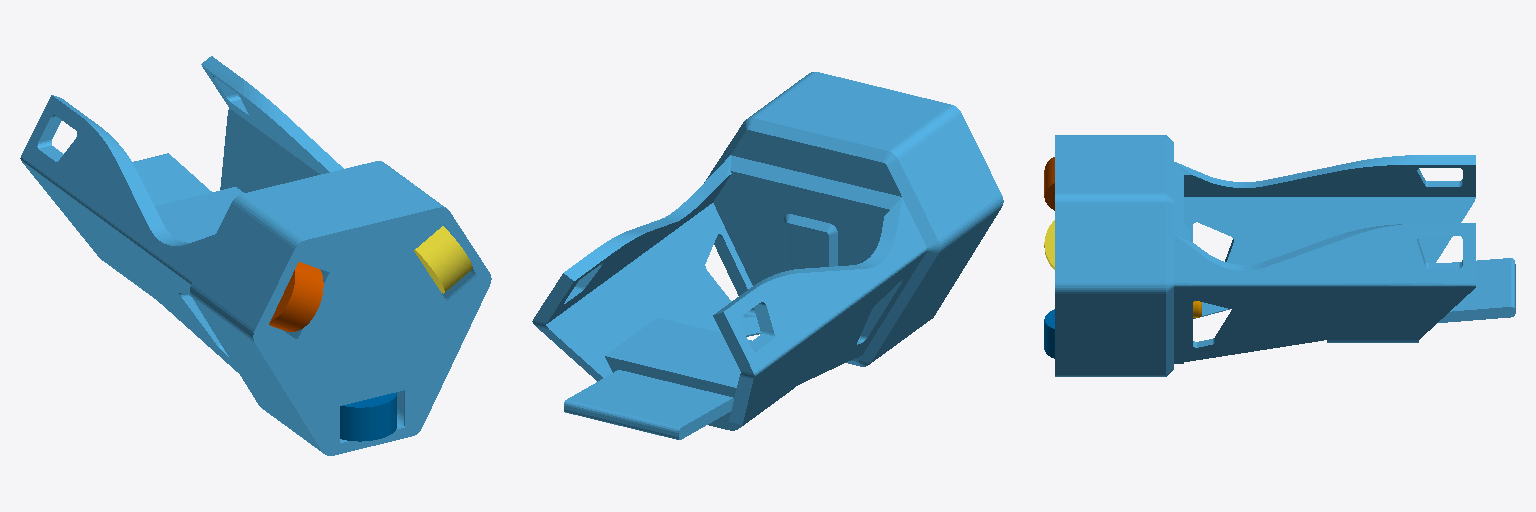
The robot description file, URDF, robot "CAD_ASR_WITH_OMNI":
<?xml version='1.0' encoding='utf-8'?>
<robot name="CAD_ASR_WITH_OMNI">
    <link name="laser">
        <inertial>
            <origin xyz="-3.1726632698791948e-09 -0.014527095824777393 2.045707248043982e-09" rpy="0.0 -0.0 0.0" />
            <mass value="1.0030784084841826" />
            <inertia ixx="0.0004140062601387662" iyy="0.0006847234020838644" izz="0.0004140062601389882" ixy="1.7347234759768086e-18" iyz="8.673617379884032e-19" ixz="2.7754319098077793e-17" />
        </inertial>
        <visual name="laser_visual">
            <origin xyz="0.14649999682733625 0.3329999988383748 2.0457006399965395e-09" rpy="3.141592653589791 -1.5707963267948515 0" />
            <geometry>
                <mesh filename="package://CAD_ASR_WITH_OMNI_LENGKAP/meshes/laser.stl" scale="0.001 0.001 0.001" />
            </geometry>
        </visual>
        <collision name="laser_collision">
            <origin xyz="0.14649999682733625 0.3329999988383748 2.0457006399965395e-09" rpy="3.141592653589791 -1.5707963267948515 0" />
            <geometry>
                <mesh filename="package://CAD_ASR_WITH_OMNI_LENGKAP/meshes/laser.stl" scale="0.001 0.001 0.001" />
            </geometry>
        </collision>
    </link>
    <link name="base_link">
        <inertial>
            <origin xyz="8.093031357751758e-06 0.5234979845352189 -0.053613979906772496" rpy="0.0 0.0 0.0" />
            <mass value="283.33820211690704" />
            <inertia ixx="29.641982413848485" iyy="10.427198784058046" izz="33.33005849408689" ixy="-0.006111458056046465" iyz="1.9269172799311245" ixz="-0.00118259433159655" />
        </inertial>
        <visual name="base_link_visual">
            <origin xyz="0.0 0.0 0.0" rpy="0.0 0.0 0.0" />
            <geometry>
                <mesh filename="package://CAD_ASR_WITH_OMNI_LENGKAP/meshes/base_link.stl" scale="0.001 0.001 0.001" />
            </geometry>
        </visual>
        <collision name="base_link_collision">
            <origin xyz="0.0 0.0 0.0" rpy="0.0 0.0 0.0" />
            <geometry>
                <mesh filename="package://CAD_ASR_WITH_OMNI_LENGKAP/meshes/base_link.stl" scale="0.001 0.001 0.001" />
            </geometry>
        </collision>
    </link>
    <link name="camera_link">
        <inertial>
            <origin xyz="-0.014999998838375462 2.735289683641895e-10 -0.010434518692237446" rpy="0.0 -0.0 0.0" />
            <mass value="0.7981209506100744" />
            <inertia ixx="0.0017574405415030636" iyy="8.717941511329763e-05" izz="0.001784777233331647" ixy="-1.5265566588595902e-16" iyz="1.1102230246251565e-16" ixz="-1.5959455978986625e-15" />
        </inertial>
        <visual name="camera_link_visual">
            <origin xyz="-0.6989999988383742 -1.9152045700820965e-05 0.17144619682733858" rpy="-6.714907318195558e-15 -4.52415882534751e-14 -1.570796326794896" />
            <geometry>
                <mesh filename="package://CAD_ASR_WITH_OMNI_LENGKAP/meshes/camera_link.stl" scale="0.001 0.001 0.001" />
            </geometry>
        </visual>
        <collision name="camera_link_collision">
            <origin xyz="-0.6989999988383742 -1.9152045700820965e-05 0.17144619682733858" rpy="-6.714907318195558e-15 -4.52415882534751e-14 -1.570796326794896" />
            <geometry>
                <mesh filename="package://CAD_ASR_WITH_OMNI_LENGKAP/meshes/camera_link.stl" scale="0.001 0.001 0.001" />
            </geometry>
        </collision>
    </link>
    <link name="wheel_front">
        <inertial>
            <origin xyz="0.010121161138996691 0.03457099537991617 -0.01738990189000152" rpy="2.465190328815662e-32 -0.0 -4.930380657631324e-32" />
            <mass value="12.318420414174582" />
            <inertia ixx="0.02763254166321557" iyy="0.036934854314119914" izz="0.02933489630804747" ixy="0.002978695109089072" iyz="-0.005117910617127469" ixz="-0.001498343056171178" />
        </inertial>
        <visual name="wheel_front_visual">
            <origin xyz="-0.5201158426687563 -0.2817960334281004 -0.8629231256072265" rpy="2.2835194947983846 -0.8434943734085423 2.283519494798289" />
            <geometry>
                <mesh filename="package://CAD_ASR_WITH_OMNI_LENGKAP/meshes/wheel_front.stl" scale="0.001 0.001 0.001" />
            </geometry>
        </visual>
        <collision name="wheel_front_collision">
            <origin xyz="-0.5201158426687563 -0.2817960334281004 -0.8629231256072265" rpy="2.2835194947983846 -0.8434943734085423 2.283519494798289" />
            <geometry>
                <mesh filename="package://CAD_ASR_WITH_OMNI_LENGKAP/meshes/wheel_front.stl" scale="0.001 0.001 0.001" />
            </geometry>
        </collision>
    </link>
    <link name="wheel_back_right">
        <inertial>
            <origin xyz="0.0399999999030117 2.0277965973036772e-10 -1.1616256045954287e-09" rpy="0.0 -0.0 0.0" />
            <mass value="12.318420414174584" />
            <inertia ixx="0.04038132192177013" iyy="0.02676048518333607" izz="0.026760485180219007" ixy="4.440892098500626e-16" iyz="-2.1663938535236486e-28" ixz="4.113056099538445e-16" />
        </inertial>
        <visual name="wheel_back_right_visual">
            <origin xyz="0.30652545566572165 -0.18990026667045798 0.1514542923361685" rpy="-1.570796326794899 3.7275829002434536e-16 -1.570796326794852" />
            <geometry>
                <mesh filename="package://CAD_ASR_WITH_OMNI_LENGKAP/meshes/wheel_back_right.stl" scale="0.001 0.001 0.001" />
            </geometry>
        </visual>
        <collision name="wheel_back_right_collision">
            <origin xyz="0.30652545566572165 -0.18990026667045798 0.1514542923361685" rpy="-1.570796326794899 3.7275829002434536e-16 -1.570796326794852" />
            <geometry>
                <mesh filename="package://CAD_ASR_WITH_OMNI_LENGKAP/meshes/wheel_back_right.stl" scale="0.001 0.001 0.001" />
            </geometry>
        </collision>
    </link>
    <link name="wheel_back_left">
        <inertial>
            <origin xyz="0.009520283034200218 -0.034916885754068865 0.017034543128049667" rpy="0.0 -0.0 0.0" />
            <mass value="12.318420414174579" />
            <inertia ixx="0.027532069547286958" iyy="0.03713946679158786" izz="0.029230755946052265" ixy="-0.0028298869142529856" iyz="-0.005063486429655801" ixz="0.0013805876667755904" />
        </inertial>
        <visual name="wheel_back_left_visual">
            <origin xyz="1.0175685168513195 0.38237479186203505 0.4029341268672561" rpy="2.288448237212985 0.8663850819298051 -2.2884482372130823" />
            <geometry>
                <mesh filename="package://CAD_ASR_WITH_OMNI_LENGKAP/meshes/wheel_back_left.stl" scale="0.001 0.001 0.001" />
            </geometry>
        </visual>
        <collision name="wheel_back_left_collision">
            <origin xyz="1.0175685168513195 0.38237479186203505 0.4029341268672561" rpy="2.288448237212985 0.8663850819298051 -2.2884482372130823" />
            <geometry>
                <mesh filename="package://CAD_ASR_WITH_OMNI_LENGKAP/meshes/wheel_back_left.stl" scale="0.001 0.001 0.001" />
            </geometry>
        </collision>
    </link>
    <joint name="base_link_wheel_back_left_to_base_link" type="continuous">
        <origin xyz="-0.22021183204569583 0.05599999883837477 0.10821199317267395" rpy="3.141592653589741 0.509636141582347 -1.5707963267949225" />
        <parent link="base_link" />
        <child link="wheel_back_left" />
        <axis xyz="-0.23800721330742242 0.872922 -0.42586376461684916" />
    </joint>
    <joint name="base_link_wheel_front_to_base_link" type="continuous">
        <origin xyz="8.514795428681055e-05 0.055999998838375545 -0.2718926268273361" rpy="1.5707963267948963 -1.5707963267948513 0" />
        <parent link="base_link" />
        <child link="wheel_back_right" />
        <axis xyz="-1.0 -3.6728714949158415e-46 8.118505867571403e-16" />
    </joint>
    <joint name="base_link_wheel_back_right_to_base_link" type="continuous">
        <origin xyz="0.21735475795430398 0.05599896883837456 0.11366769317265416" rpy="5.23944716594017e-14 0.5270894341022825 1.5707963267949228" />
        <parent link="base_link" />
        <child link="wheel_front" />
        <axis xyz="-0.2530290935539401 -0.864275 0.4347475108787531" />
    </joint>
    <joint name="base_link_lidar_to_base_link" type="fixed">
        <origin xyz="-2.0457073901525293e-09 0.33199999883837567 -0.14649999682733542" rpy="3.1415926535897927 -1.5707963267948513 0" />
        <parent link="base_link" />
        <child link="laser" />
    </joint>
    <joint name="base_link_realsense_to_base_link" type="fixed">
        <origin xyz="-1.915204570842377e-05 0.698999998838376 -0.17144619682733453" rpy="4.528322161689852e-14 -2.301770795310504e-15 1.5707963267948961" />
        <parent link="base_link" />
        <child link="camera_link" />
    </joint>

    <gazebo>
        <plugin name="object_controller" filename="libgazebo_ros_planar_move.so">
            <commandTopic>cmd_vel</commandTopic>
            <odometryTopic>odom</odometryTopic>
            <odometryFrame>odom</odometryFrame>
            <odometryRate>20.0</odometryRate>
            <robotBaseFrame>base_link</robotBaseFrame>
        </plugin>
    </gazebo>

    <gazebo reference="laser">
        <sensor type="ray" name="head_hokuyo_sensor">
            <pose>0 0 0 0 0 0</pose>
            <visualize>true</visualize>
            <update_rate>40</update_rate>
            <ray>
                <scan>
                    <horizontal>
                        <samples>720</samples>
                        <resolution>1</resolution>
                        <min_angle>-3.14159</min_angle>
                        <max_angle>3.14159</max_angle>
                    </horizontal>
                </scan>
                <range>
                    <min>0.10</min>
                    <max>12.0</max>
                    <resolution>0.01</resolution>
                </range>
            </ray>
            <plugin name="gazebo_ros_head_hokuyo_controller" filename="libgazebo_ros_laser.so">
                <topicName>/scan</topicName>
                <frameName>laser</frameName>
            </plugin>
        </sensor>
    </gazebo>

    <gazebo reference="wheel_front">
        <mu1>1.0</mu1>
        <mu2>0.0</mu2>
        <kp>1000000.0</kp>
        <kd>100.0</kd>
        <minDepth>0.001</minDepth>
        <maxVel>1.0</maxVel>
    </gazebo>

    <gazebo reference="wheel_back_left">
        <mu1>1.0</mu1>
        <mu2>0.0</mu2>
        <kp>1000000.0</kp>
        <kd>100.0</kd>
        <minDepth>0.001</minDepth>
        <maxVel>1.0</maxVel>
    </gazebo>

    <gazebo reference="wheel_back_right">
        <mu1>1.0</mu1>
        <mu2>0.0</mu2>
        <kp>1000000.0</kp>
        <kd>100.0</kd>
        <minDepth>0.001</minDepth>
        <maxVel>1.0</maxVel>
    </gazebo>
</robot>

--- Facts derived from the render (not from the file) ---
Views: 3 orthographic renders of the robot side by side, from view 1: azimuth 30°, elevation 25°; view 2: azimuth 150°, elevation 25°; view 3: azimuth 270°, elevation 25°.
Model CAD_ASR_WITH_OMNI with 6 links and 5 joints (3 continuous, 2 fixed), rooted at base_link, posed every joint at zero.
Links seen in each view (by area): view 1: base_link, wheel_back_left, wheel_back_right, wheel_front; view 2: base_link; view 3: base_link.
Boxes of the visible links, box(x1,y1,x2,y2) form: base_link: box(20, 56, 491, 455); wheel_back_left: box(269, 262, 323, 331); wheel_back_right: box(340, 392, 396, 441); wheel_front: box(414, 226, 472, 293); base_link: box(532, 72, 1003, 439); base_link: box(1055, 135, 1515, 376).
Size in the robot's own frame: 0.5885 by 1.15 by 0.525 metres.
Meshes: 6 distinct files referenced, 6 mesh visuals loaded (6 binary STL).
